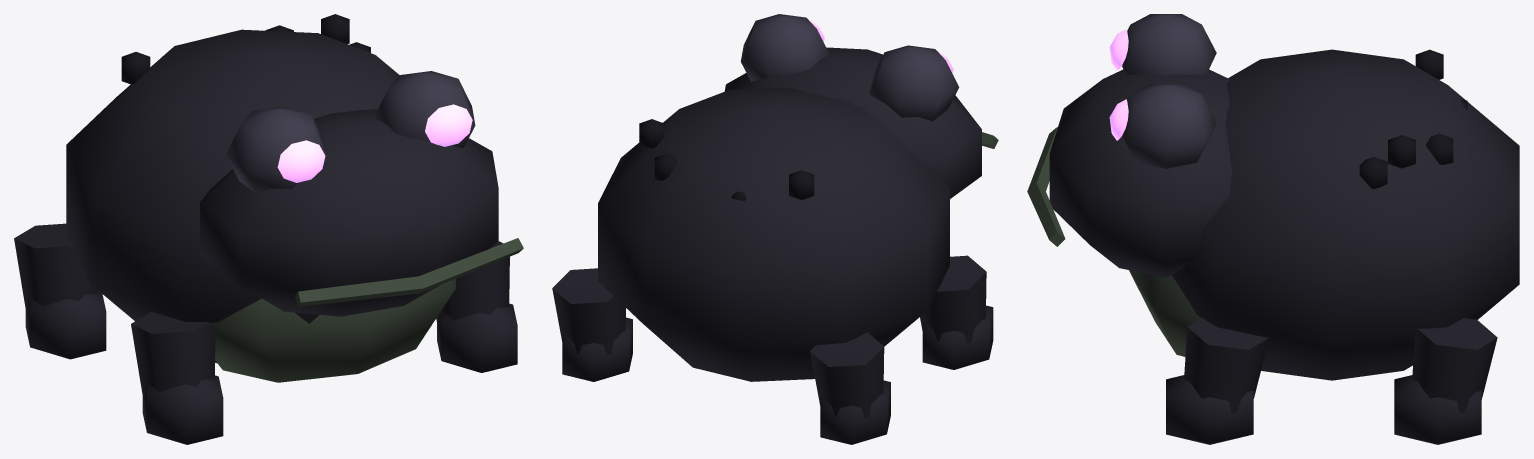
The model's file is shadow-toad.glb.
3 renders of one model, left to right at view 1: azimuth 30°, elevation 25°; view 2: azimuth 150°, elevation 25°; view 3: azimuth 270°, elevation 25°, orthographic. The views are drawn at different scales.
Visible parts, largest first — view 1: body, head, leg_fr, leg_br, leg_fl, glow_eyes; view 2: body, head, leg_br, leg_bl, leg_fr; view 3: body, head, leg_bl, leg_fl, glow_eyes.
Part boxes in pixels (x1,y1,x2,y2): body: [66, 14, 456, 382]; head: [200, 71, 523, 316]; leg_fr: [131, 312, 223, 444]; leg_br: [14, 223, 106, 359]; leg_fl: [436, 241, 517, 372]; glow_eyes: [277, 104, 472, 182]; body: [598, 87, 949, 381]; head: [724, 14, 998, 198]; leg_br: [810, 332, 890, 444]; leg_bl: [552, 268, 632, 381]; leg_fr: [920, 255, 993, 369]; body: [1129, 49, 1519, 380]; head: [1027, 14, 1231, 277]; leg_bl: [1394, 318, 1497, 444]; leg_fl: [1166, 318, 1268, 444]; glow_eyes: [1109, 29, 1128, 140].
Size of the model in its own units: 0.3979 by 0.345 by 0.4749.
